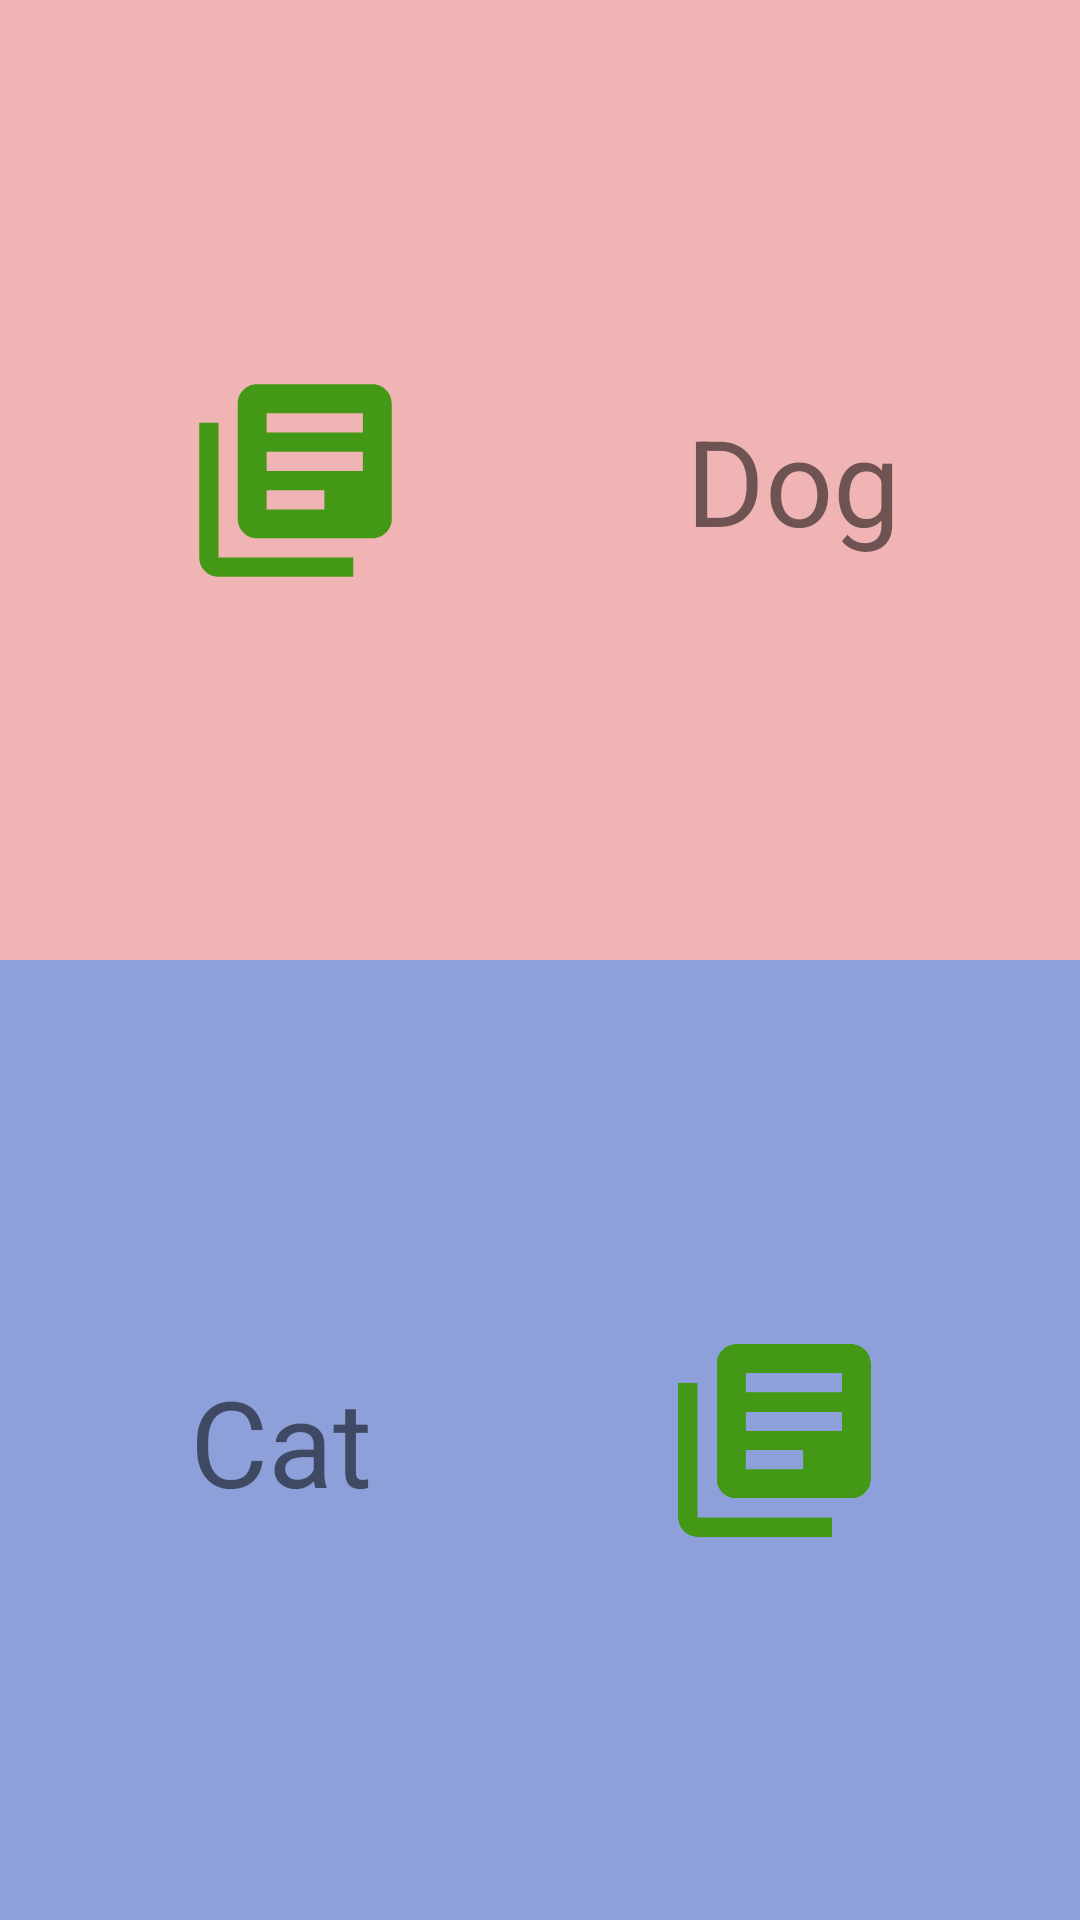

Screen size 1080×1920. Icon name, then its center in pixels as [x,y]:
library books: [295,480], [774,1440]
